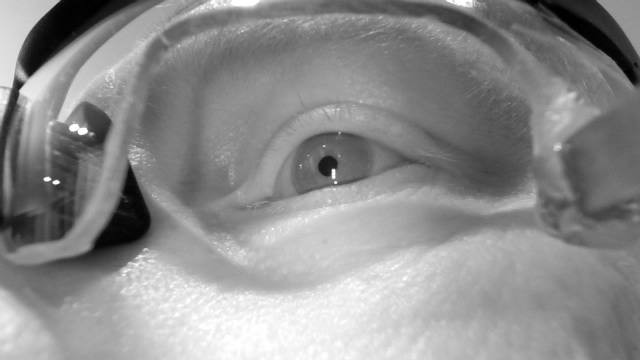pupil: (317, 155, 339, 178)
